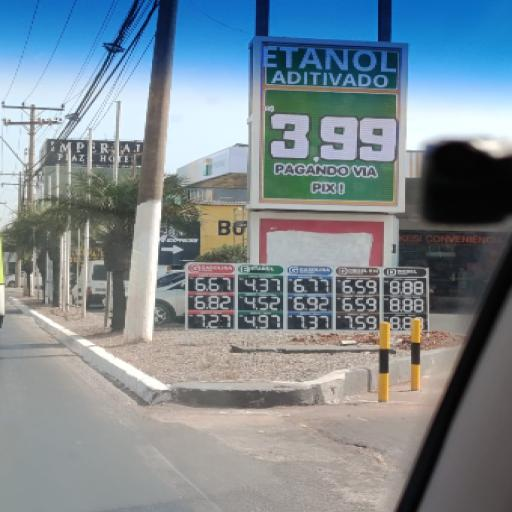ETANOL: (240, 265, 282, 273)
GASOLINA AD: (289, 266, 333, 275)
GASOLINA C: (188, 264, 236, 273)
S10: (338, 268, 380, 276)
placa: (186, 262, 429, 316)
preco: (188, 275, 234, 292), (336, 277, 380, 294), (239, 275, 283, 292), (290, 276, 332, 292)
